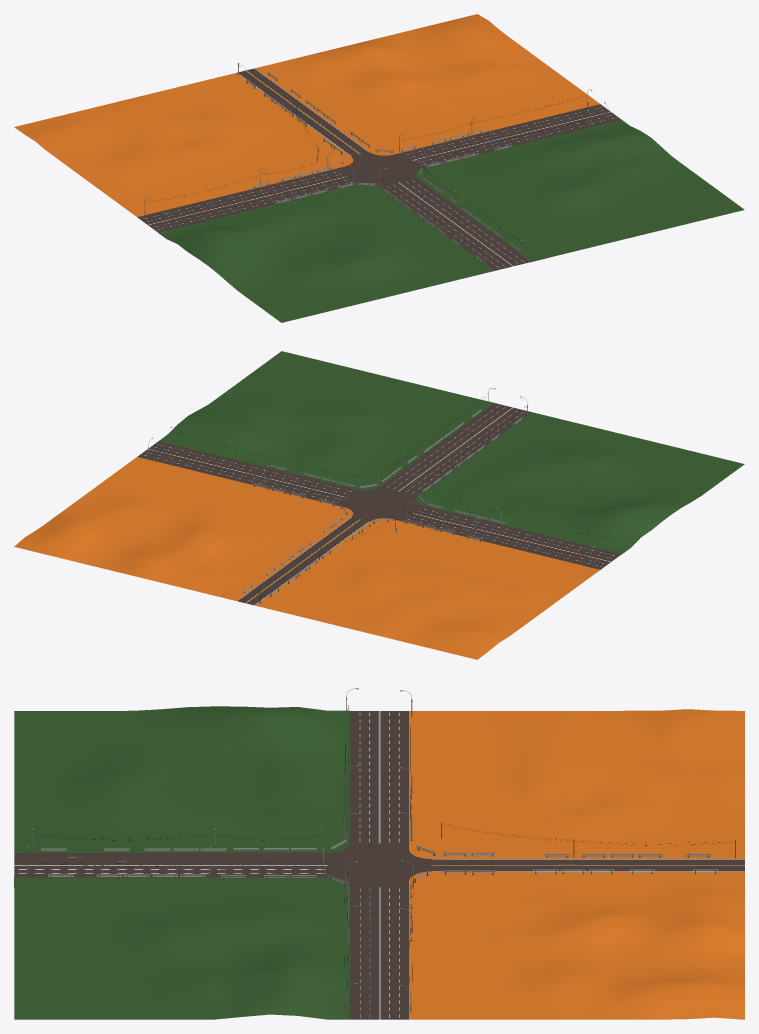
File: TileHighwayDesert.fbx
3 views of the same model, one above another, from view 1: azimuth 30°, elevation 25°; view 2: azimuth 150°, elevation 25°; view 3: azimuth 270°, elevation 25° (orthographic). The views are drawn at different scales.
Visible parts, largest first — view 1: Plane.051, Plane.050, Road.009, Road.008, Road.007, Road.010, Road1.011; view 2: Plane.051, Plane.050, Road.008, Road.009, Road.007, Road.010, Road1.011; view 3: Plane.051, Plane.050, Road.009, Road.008, Road.007, Road.010, Road1.011.
Boxes of the visible parts, left/top/right/bottom form: Plane.051: left=14, top=14, right=599, bottom=216; Plane.050: left=158, top=120, right=744, bottom=322; Road.009: left=137, top=168, right=356, bottom=232; Road.008: left=402, top=104, right=621, bottom=168; Road.007: left=380, top=178, right=530, bottom=270; Road.010: left=236, top=68, right=369, bottom=156; Road1.011: left=336, top=152, right=421, bottom=186; Plane.051: left=14, top=457, right=599, bottom=659; Plane.050: left=159, top=351, right=744, bottom=553; Road.008: left=137, top=441, right=356, bottom=505; Road.009: left=402, top=505, right=621, bottom=569; Road.007: left=380, top=403, right=531, bottom=495; Road.010: left=237, top=517, right=369, bottom=605; Road1.011: left=336, top=487, right=422, bottom=521; Plane.051: left=409, top=709, right=744, bottom=1019; Plane.050: left=14, top=706, right=350, bottom=1019; Road.009: left=350, top=711, right=408, bottom=843; Road.008: left=350, top=887, right=408, bottom=1019; Road.007: left=14, top=853, right=327, bottom=877; Road.010: left=431, top=859, right=744, bottom=871; Road1.011: left=327, top=843, right=431, bottom=887.
Bounding box in the file's own units: 20020 × 817 × 20010.
